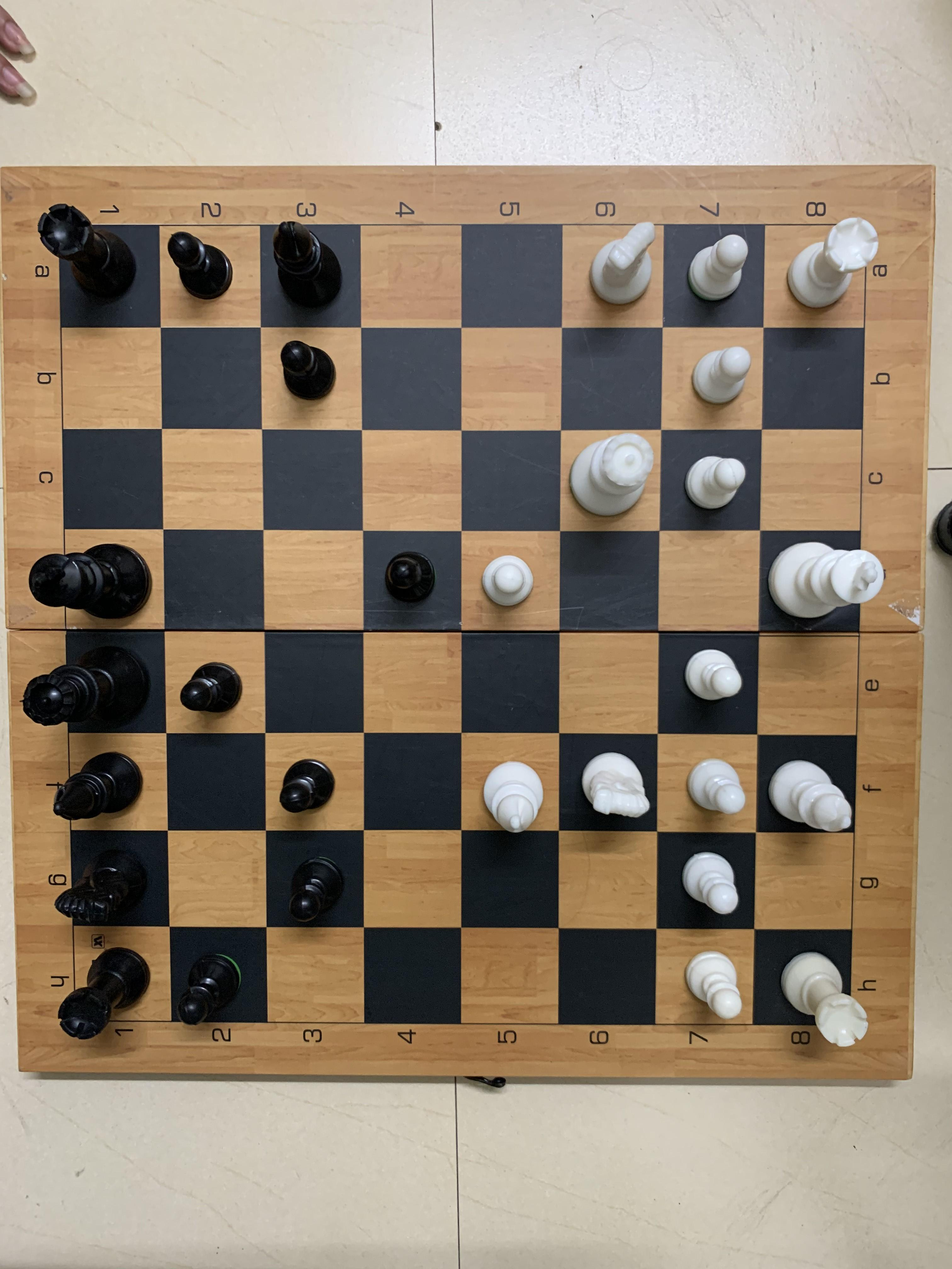black_bishop: (42, 740, 152, 832), (260, 213, 352, 320)
black_king: (22, 524, 161, 629)
black_knight: (52, 844, 159, 931)
black_pawn: (157, 216, 258, 319), (161, 940, 258, 1040), (167, 642, 260, 736), (365, 531, 454, 629), (266, 328, 357, 421), (272, 845, 353, 939), (274, 743, 352, 823)
black_queen: (14, 638, 159, 742)
black_rook: (31, 197, 142, 318), (49, 941, 157, 1052)
white_bishop: (759, 734, 870, 851), (469, 745, 558, 838)
white_king: (763, 520, 893, 635)
white_knight: (573, 214, 671, 318), (570, 735, 658, 832)
white_pawn: (464, 534, 557, 630), (663, 631, 757, 723), (672, 334, 769, 421), (669, 933, 754, 1029), (664, 833, 747, 929), (671, 222, 760, 310), (675, 436, 755, 526), (671, 738, 752, 824)
white_queen: (557, 428, 664, 533)
white_rook: (765, 940, 878, 1061), (782, 208, 888, 322)
